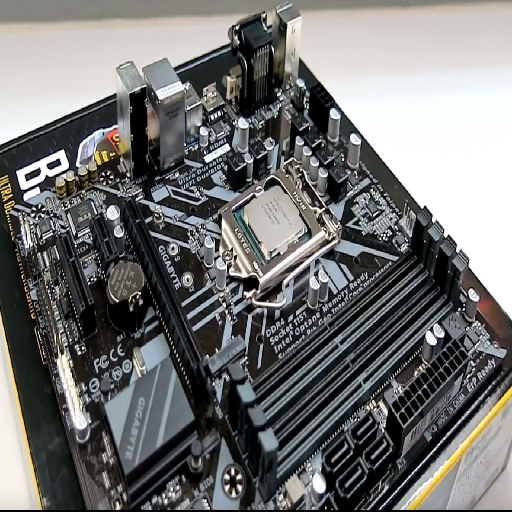CPU: (206, 166, 332, 292)
GPU: (121, 195, 218, 402)
MOTHERBOARD: (12, 67, 507, 509)
RAM: (226, 206, 470, 471)
SSD: (206, 335, 247, 374)
